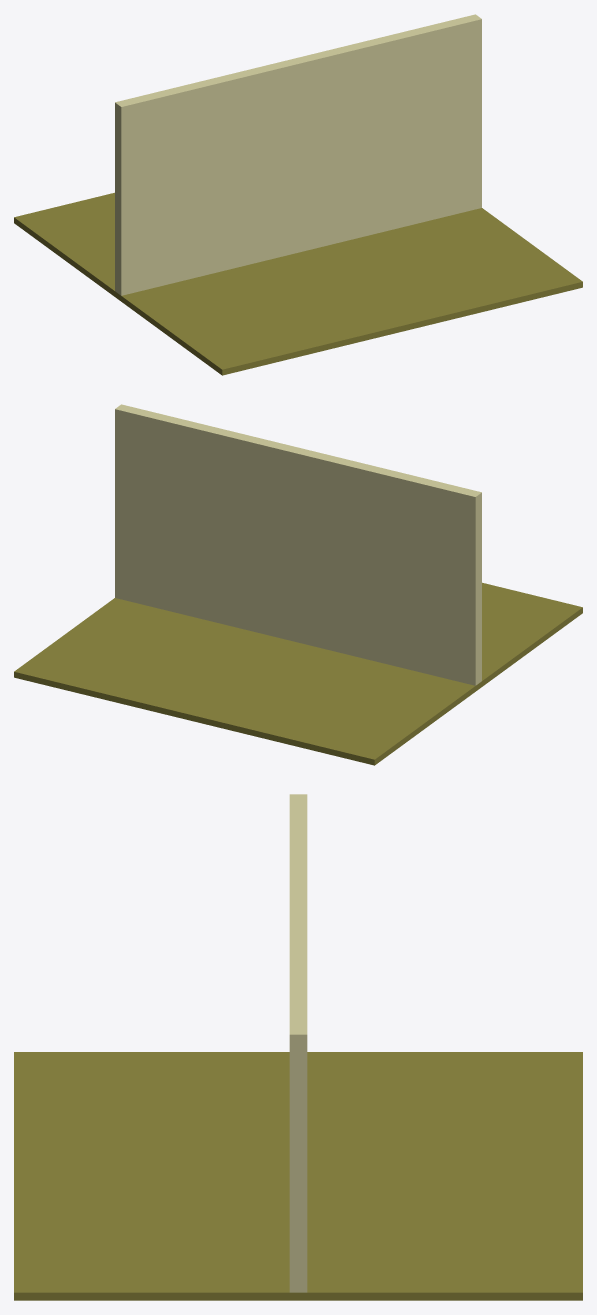
File: BACKROOMS_TILE_02.gltf
3 renders of one model, top to bottom at view 1: azimuth 30°, elevation 25°; view 2: azimuth 150°, elevation 25°; view 3: azimuth 270°, elevation 25°, orthographic. The views are drawn at different scales.
Visible parts, largest first — view 1: cube (×2); view 2: cube (×2); view 3: cube (×2).
Boxes of the visible parts, x1,y1,x2,y2 form: cube (×2): [14, 14, 582, 375]; cube (×2): [14, 404, 582, 765]; cube (×2): [14, 794, 582, 1300].
Bounding box in the file's own units: 4 × 2.06 × 4.
Materials: 2 (2 with a texture image).
